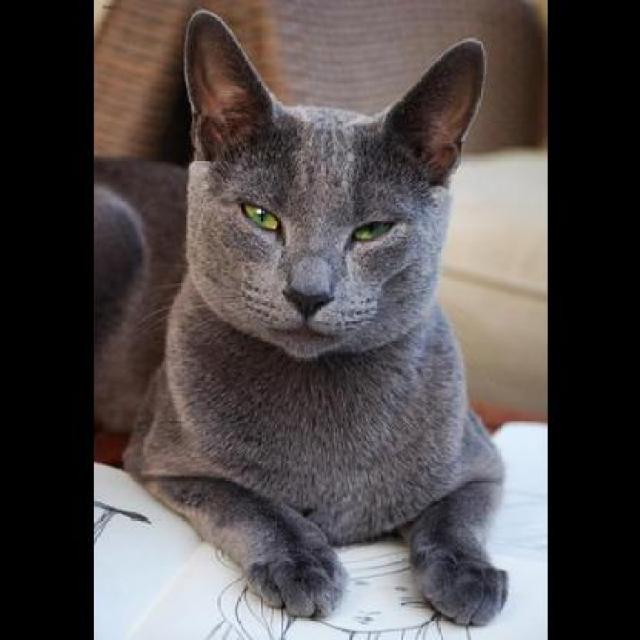unauthorized: (92, 6, 510, 628)
